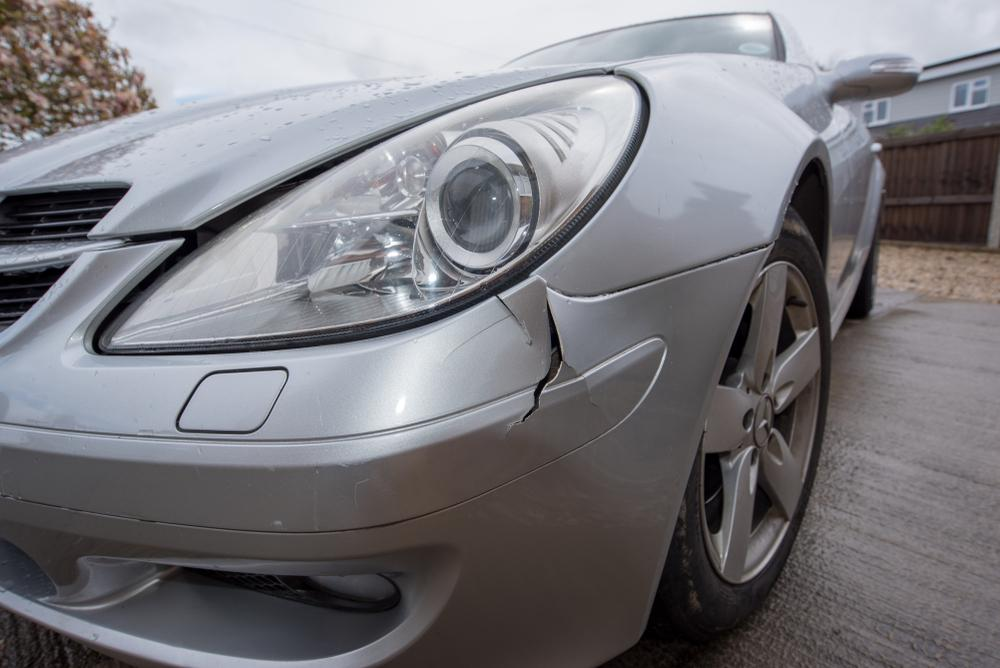crack: (502, 284, 599, 439), (442, 295, 533, 370)
